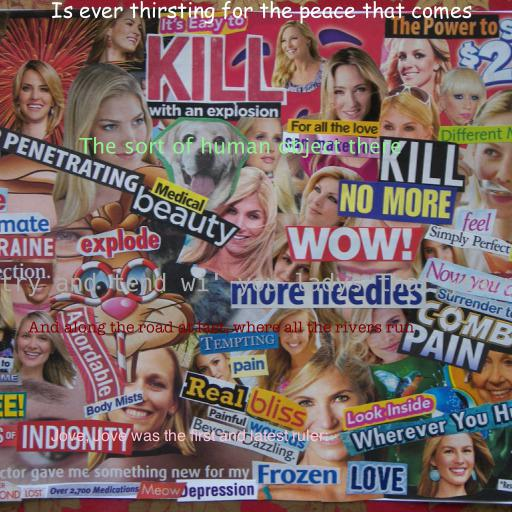American Typewriter: (28, 321, 414, 336)
Apple Chancery: (50, 429, 328, 444)
Comic Sans MS: (50, 0, 472, 24)
Lucida Grande: (78, 136, 402, 158)
Menlo: (0, 272, 512, 297)
